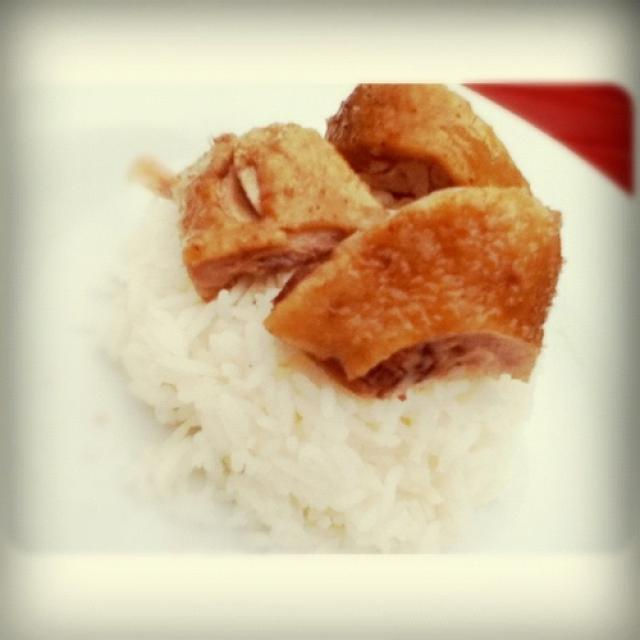米饭主食: (51, 42, 608, 589)
